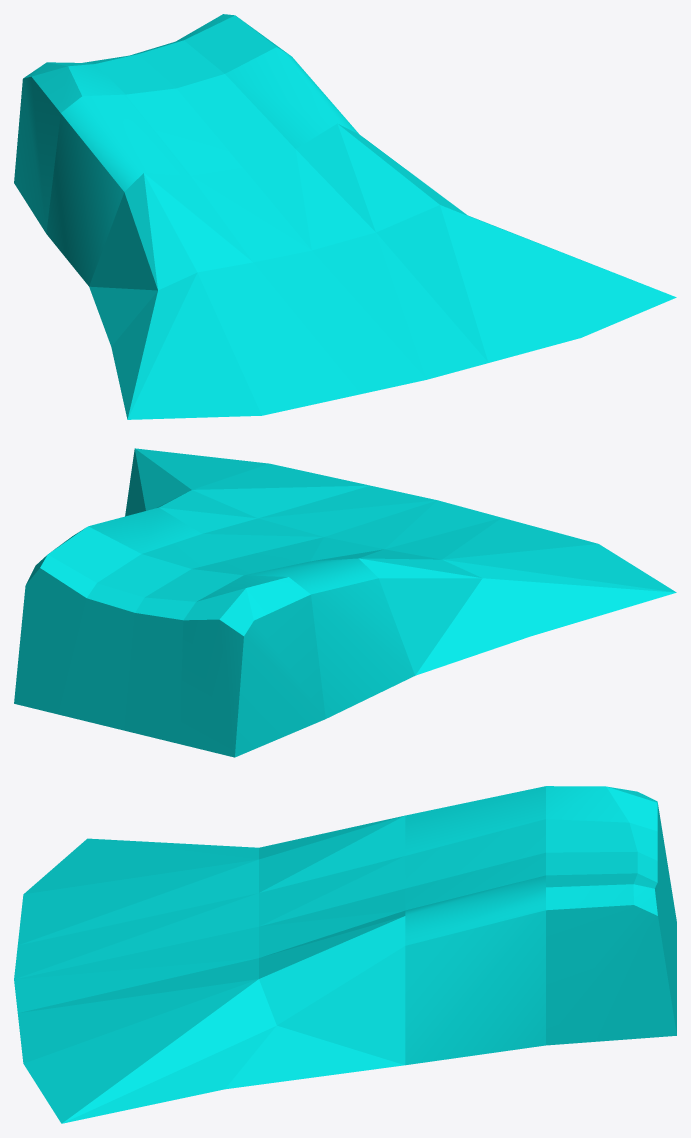
Rendered from SM_Env_Road_Ramp_01_Collision.fbx.
The picture shows the model from 3 angles, top to bottom: view 1: azimuth 30°, elevation 25°; view 2: azimuth 150°, elevation 25°; view 3: azimuth 270°, elevation 25°; orthographic projection. The views are drawn at different scales.
Parts seen in each view (by area): view 1: SM_Env_Road_Ramp_01_Collision; view 2: SM_Env_Road_Ramp_01_Collision; view 3: SM_Env_Road_Ramp_01_Collision.
Part boxes in pixels (box(x1,y1,x2,y2)): SM_Env_Road_Ramp_01_Collision: box(14, 14, 676, 419); SM_Env_Road_Ramp_01_Collision: box(14, 448, 676, 757); SM_Env_Road_Ramp_01_Collision: box(14, 786, 676, 1123).
Bounding box in the file's own units: 2353 × 566 × 2311.
